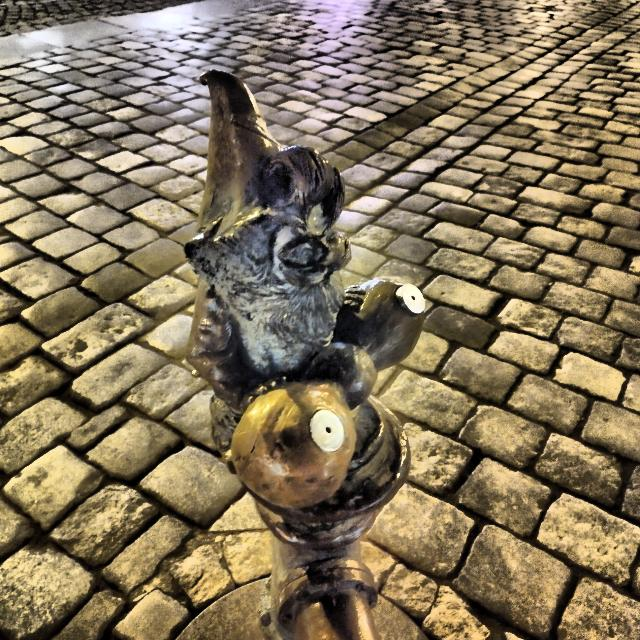Orzezwiacz: (183, 72, 427, 552)
